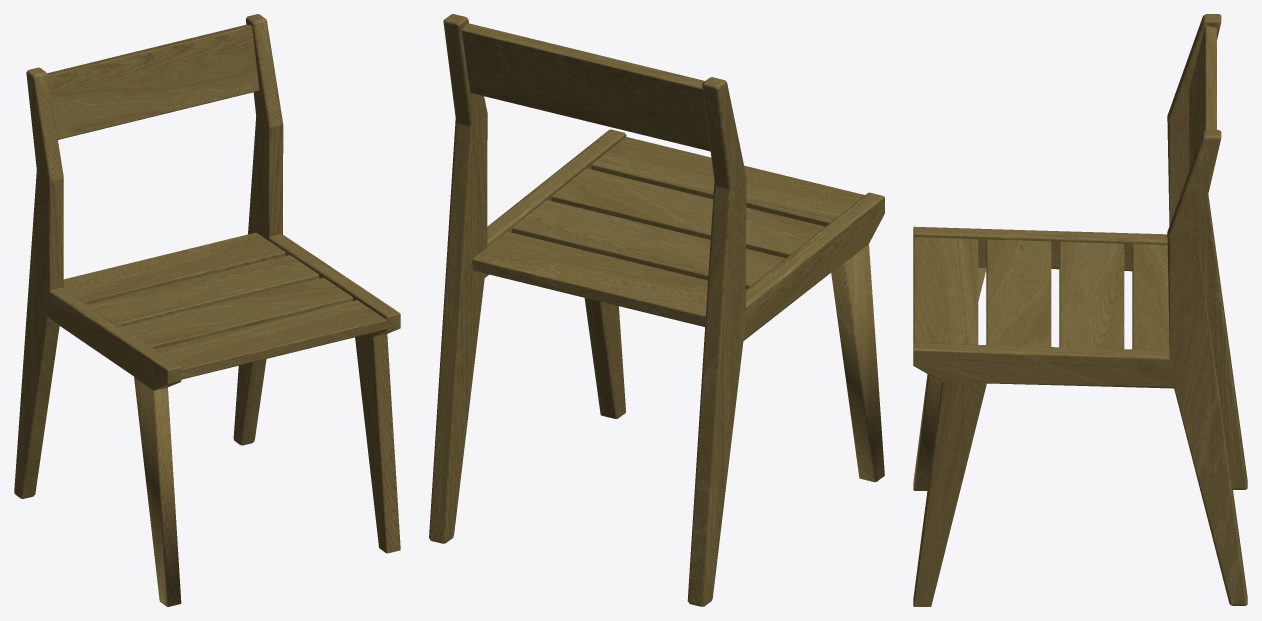
The model's file is justCHAIR.gltf.
3 renders of one model, left to right at view 1: azimuth 30°, elevation 25°; view 2: azimuth 150°, elevation 25°; view 3: azimuth 270°, elevation 25°, orthographic. The views are drawn at different scales.
Parts seen in each view (by area): view 1: Body001.001, Link004(*Back post).001, Link007(*Back post).001, Body.001, Body003.001, Body002.001, Body004.001, Link003(*Front Leg).001, Link006(*Front Leg).001, Link002(*Side Rail).001, Link005(*Side Rail).001; view 2: Link004(*Back post).001, Body001.001, Link007(*Back post).001, Body004.001, Body.001, Body002.001, Body003.001, Link003(*Front Leg).001, Link002(*Side Rail).001, Link006(*Front Leg).001, Link005(*Side Rail).001; view 3: Link007(*Back post).001, Link005(*Side Rail).001, Link004(*Back post).001, Link006(*Front Leg).001, Body.001, Body002.001, Body003.001, Body004.001, Link002(*Side Rail).001, Body001.001, Link003(*Front Leg).001.
Boxes of the visible parts, x1,y1,x2,y2 form: Body001.001: [47, 24, 259, 139]; Link004(*Back post).001: [14, 67, 63, 498]; Link007(*Back post).001: [233, 14, 283, 445]; Body.001: [155, 300, 387, 379]; Body003.001: [88, 255, 319, 326]; Body002.001: [121, 277, 352, 348]; Body004.001: [63, 232, 285, 304]; Link003(*Front Leg).001: [134, 377, 181, 606]; Link006(*Front Leg).001: [355, 334, 400, 553]; Link002(*Side Rail).001: [47, 287, 181, 390]; Link005(*Side Rail).001: [268, 234, 400, 336]; Link004(*Back post).001: [687, 77, 746, 606]; Body001.001: [461, 23, 710, 151]; Link007(*Back post).001: [429, 14, 487, 543]; Body004.001: [472, 231, 707, 326]; Body.001: [591, 137, 864, 226]; Body002.001: [551, 168, 824, 258]; Body003.001: [512, 200, 785, 289]; Link003(*Front Leg).001: [831, 244, 884, 482]; Link002(*Side Rail).001: [743, 192, 884, 340]; Link006(*Front Leg).001: [584, 298, 625, 418]; Link005(*Side Rail).001: [485, 129, 626, 277]; Link007(*Back post).001: [1167, 130, 1247, 605]; Link005(*Side Rail).001: [913, 343, 1173, 388]; Link004(*Back post).001: [1167, 14, 1247, 489]; Link006(*Front Leg).001: [913, 382, 986, 606]; Body.001: [913, 237, 978, 344]; Body002.001: [986, 239, 1051, 346]; Body003.001: [1059, 241, 1124, 349]; Body004.001: [1132, 244, 1169, 350]; Link002(*Side Rail).001: [913, 226, 1167, 271]; Body001.001: [1189, 25, 1216, 169]; Link003(*Front Leg).001: [913, 267, 986, 490].
Bounding box in the file's own units: 0.4586 × 0.8116 × 0.5236.
11 materials, 11 textured.
